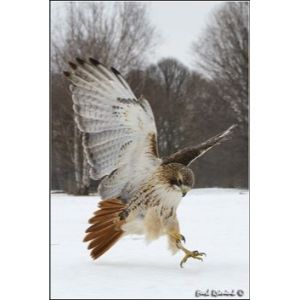hawk: (58, 55, 242, 273)
